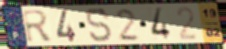2: (114, 7, 141, 42), (175, 5, 199, 42)
4: (55, 8, 79, 43), (150, 6, 173, 42)
R: (20, 9, 55, 44)
S: (85, 7, 114, 44)
